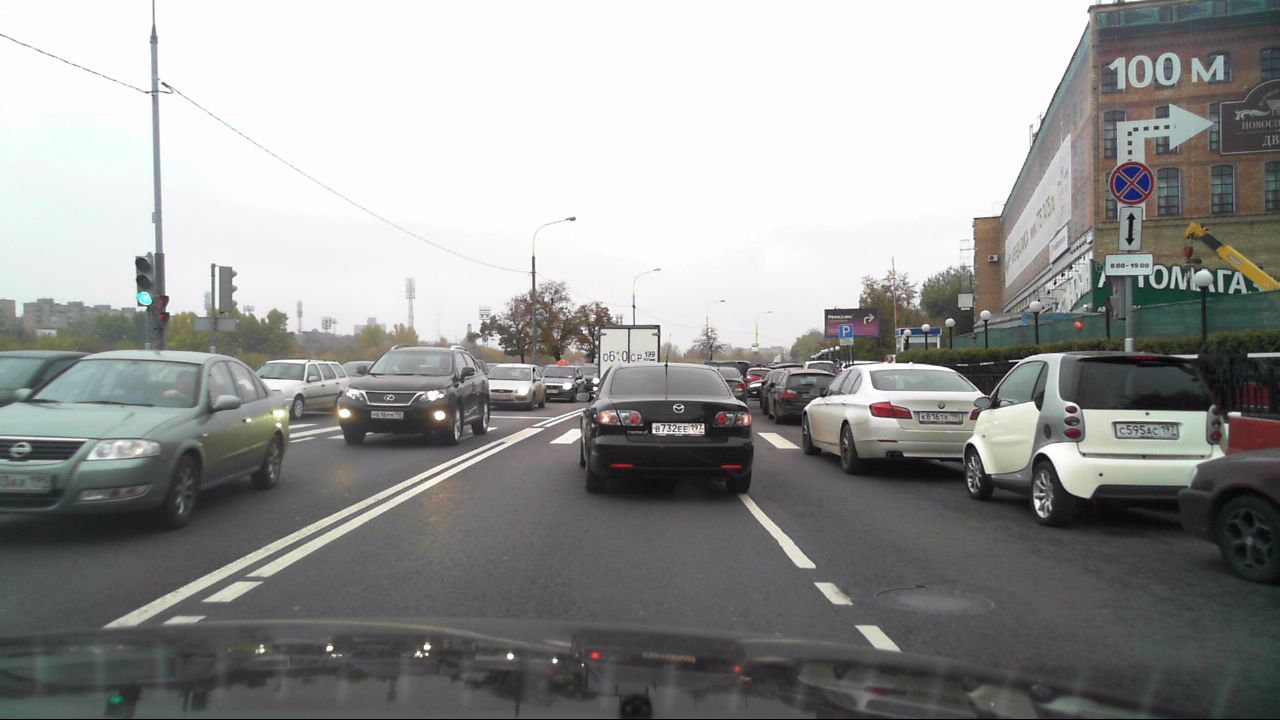No Parking: (1109, 160, 1152, 204)
